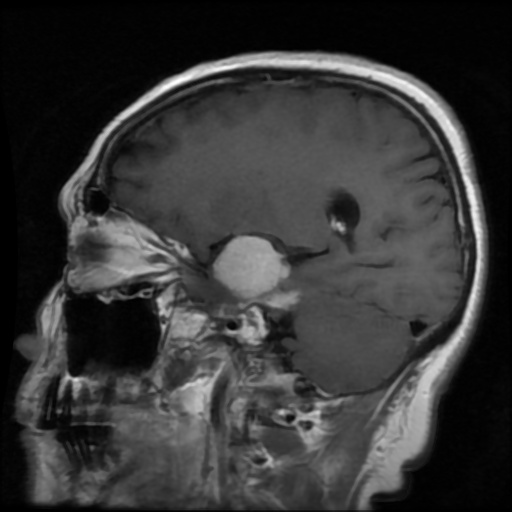meningioma: (214, 235, 289, 298)
